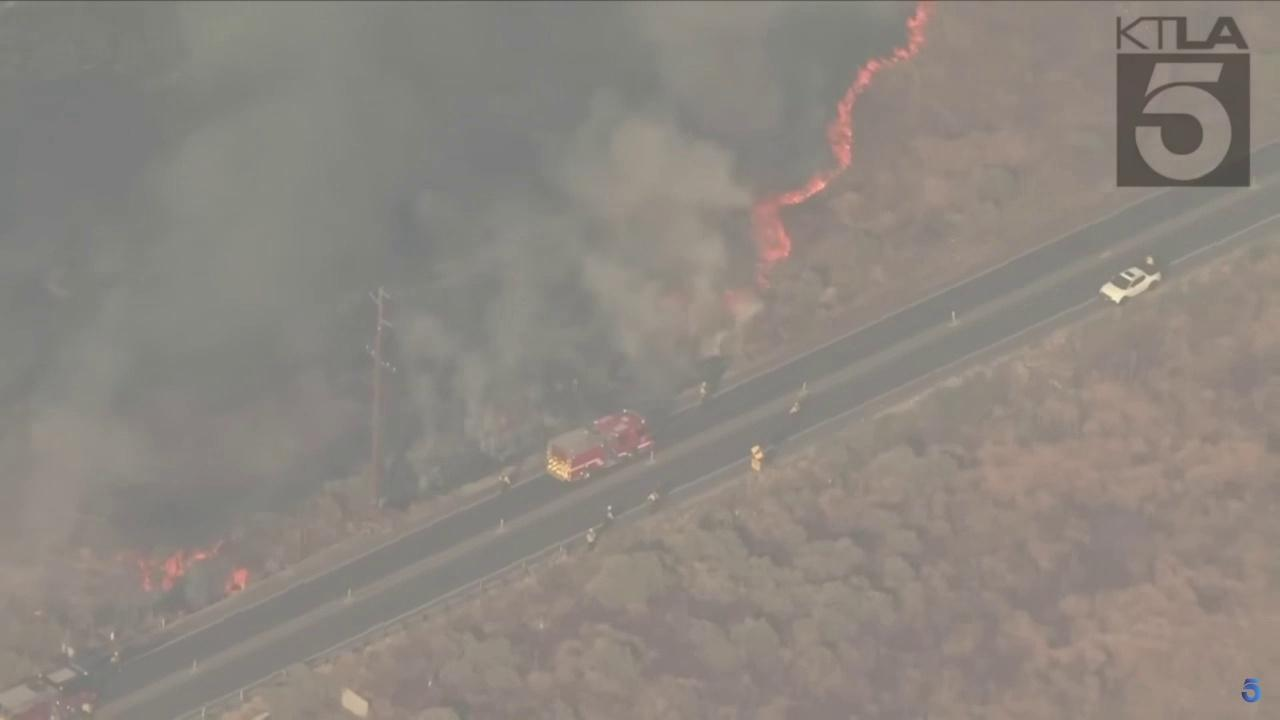fire: (749, 0, 931, 289), (136, 548, 209, 593), (223, 566, 249, 598)
smoke: (0, 0, 900, 611)
